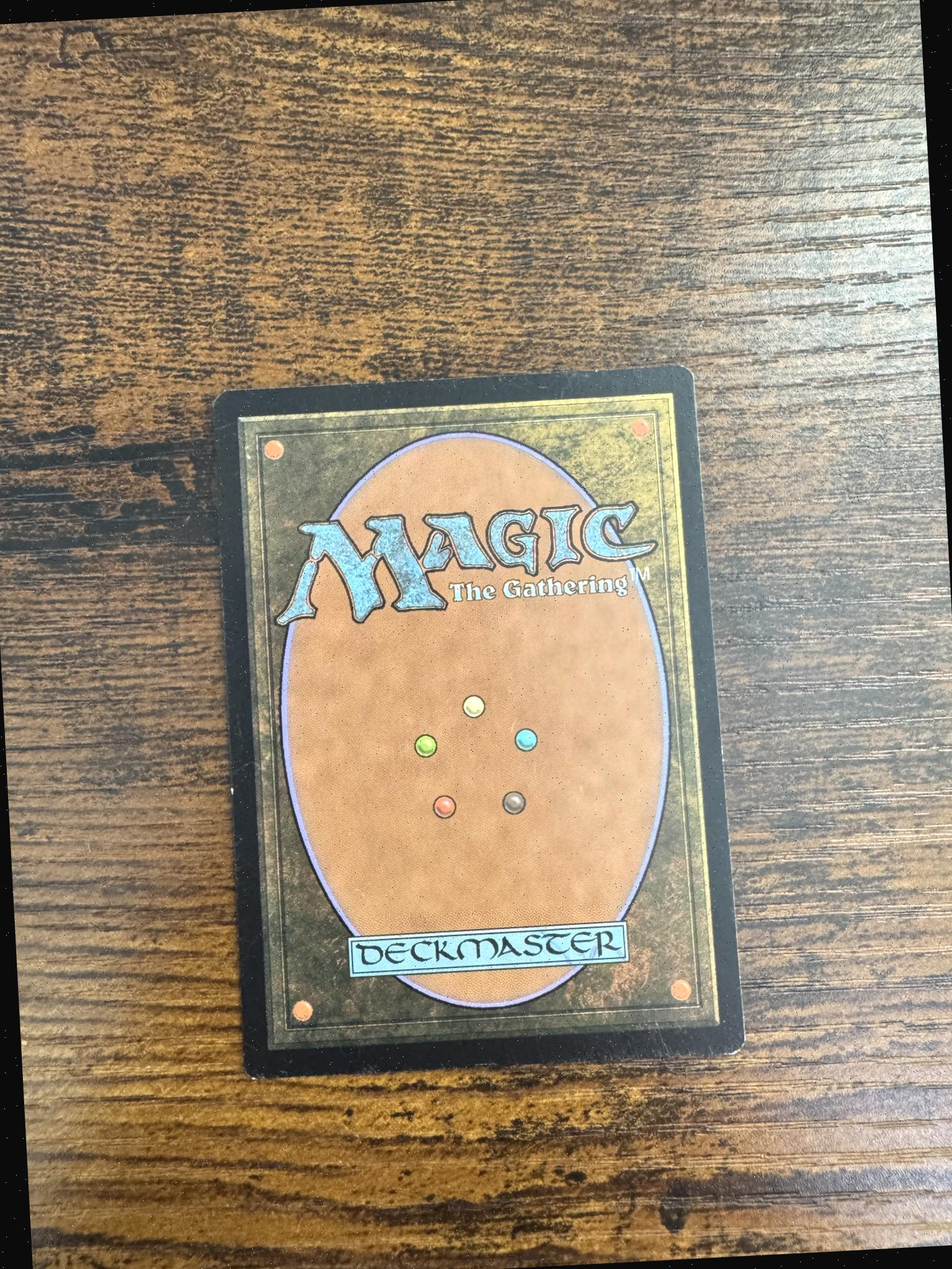card-2UtV: (212, 365, 746, 1080)
